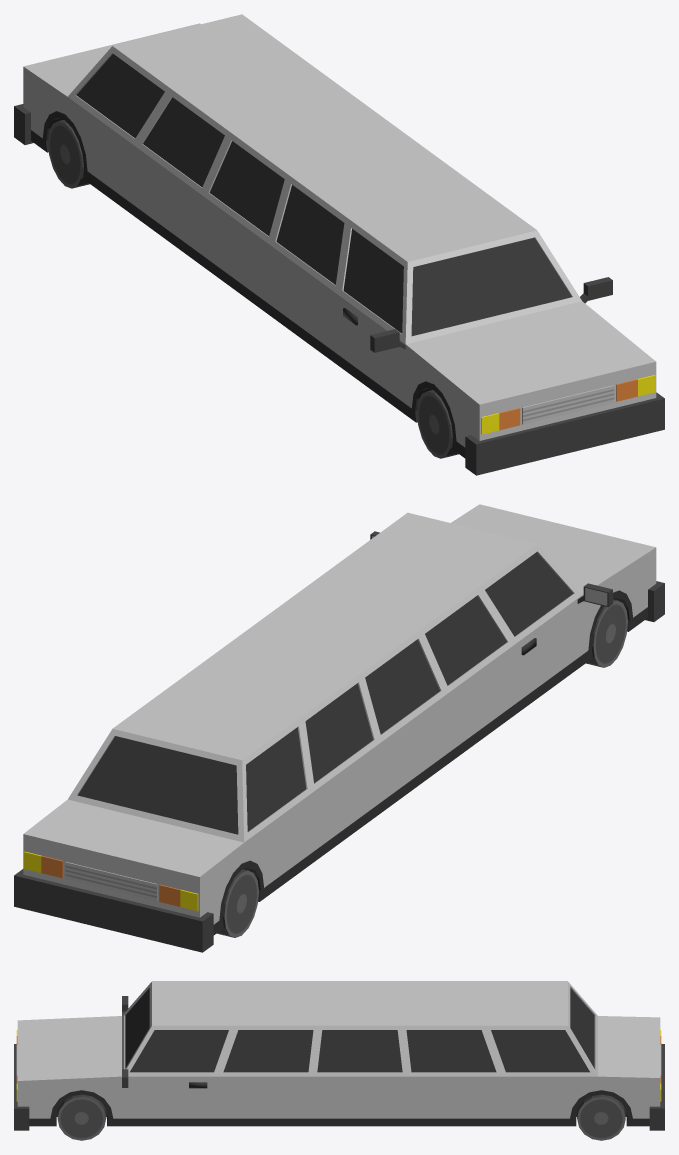
The model's file is limousine01_color01.fbx.
3 renders of one model, top to bottom at view 1: azimuth 30°, elevation 25°; view 2: azimuth 150°, elevation 25°; view 3: azimuth 270°, elevation 25°, orthographic. The views are drawn at different scales.
Visible parts, largest first — view 1: Cube.038, Cube.355, Cube.354; view 2: Cube.038, Cube.354, Cube.355; view 3: Cube.038, Cube.059, Cube.058.
Boxes of the visible parts, box(x1,y1,x2,y2) form: Cube.038: box(14, 14, 664, 475); Cube.355: box(417, 390, 458, 458); Cube.354: box(48, 120, 89, 188); Cube.038: box(14, 504, 664, 952); Cube.354: box(217, 869, 258, 937); Cube.355: box(586, 599, 627, 667); Cube.038: box(14, 981, 664, 1130); Cube.059: box(57, 1094, 106, 1140); Cube.058: box(577, 1094, 625, 1140).
Size of the model in its own units: 270 by 165 by 907.
